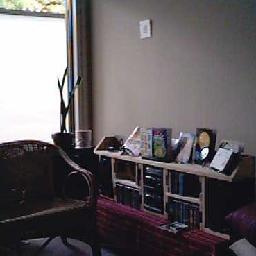Ventana: (3, 6, 75, 138)
